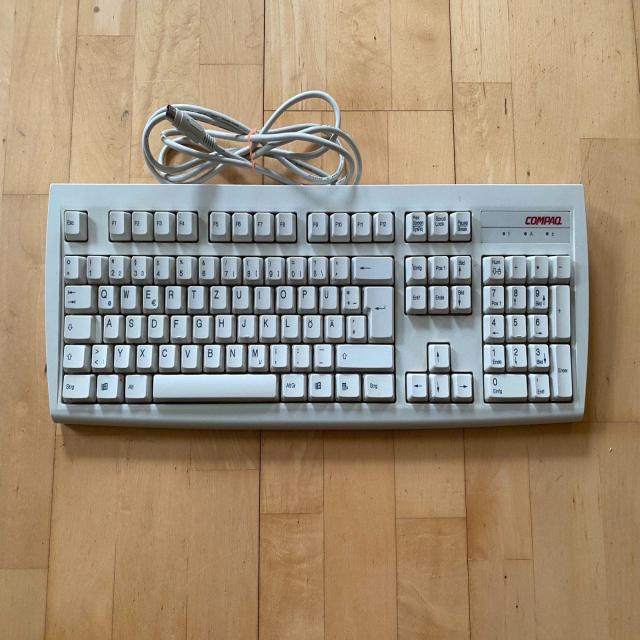0: (286, 254, 305, 280)
1: (85, 254, 102, 279)
2: (108, 253, 127, 279)
3: (130, 253, 148, 281)
4: (153, 254, 170, 279)
5: (176, 254, 193, 280)
6: (197, 254, 216, 279)
7: (220, 254, 240, 279)
8: (242, 254, 261, 280)
9: (264, 254, 283, 280)
a: (102, 313, 119, 337)
accent: (329, 254, 348, 278)
ae: (324, 313, 343, 338)
alt-left: (123, 372, 147, 398)
altgr-right: (280, 371, 304, 397)
b: (202, 342, 221, 367)
c: (157, 342, 175, 367)
caret: (62, 254, 79, 278)
comma: (269, 341, 287, 367)
d: (147, 312, 164, 337)
del: (352, 253, 393, 279)
e: (142, 283, 159, 309)
enter: (362, 283, 393, 337)
f: (169, 313, 187, 338)
g: (192, 313, 209, 338)
h: (214, 312, 232, 337)
hash: (346, 313, 365, 338)
i: (254, 285, 271, 309)
j: (237, 312, 255, 337)
k: (258, 312, 277, 337)
keyboard: (45, 183, 590, 430)
l: (280, 313, 298, 337)
less: (90, 342, 108, 367)
m: (246, 342, 266, 368)
minus: (313, 341, 332, 366)
n: (225, 342, 244, 367)
o: (275, 283, 293, 308)
oe: (302, 312, 320, 338)
p: (297, 283, 314, 308)
plus: (340, 283, 359, 309)
point: (291, 342, 309, 367)
q: (97, 283, 114, 309)
r: (164, 283, 181, 308)
s: (124, 313, 141, 338)
shift-left: (61, 342, 84, 367)
shift-lock: (62, 313, 92, 338)
shift-right: (336, 341, 393, 367)
space: (151, 371, 277, 398)
ss: (308, 254, 327, 280)
strg-left: (60, 372, 91, 398)
strg-right: (361, 371, 394, 398)
t: (187, 283, 204, 308)
tab: (63, 283, 91, 308)
u: (231, 283, 249, 308)
ue: (319, 283, 337, 309)
v: (180, 342, 198, 367)
w: (119, 283, 136, 308)
x: (136, 342, 153, 367)
y: (113, 343, 130, 367)
z: (209, 284, 226, 308)
